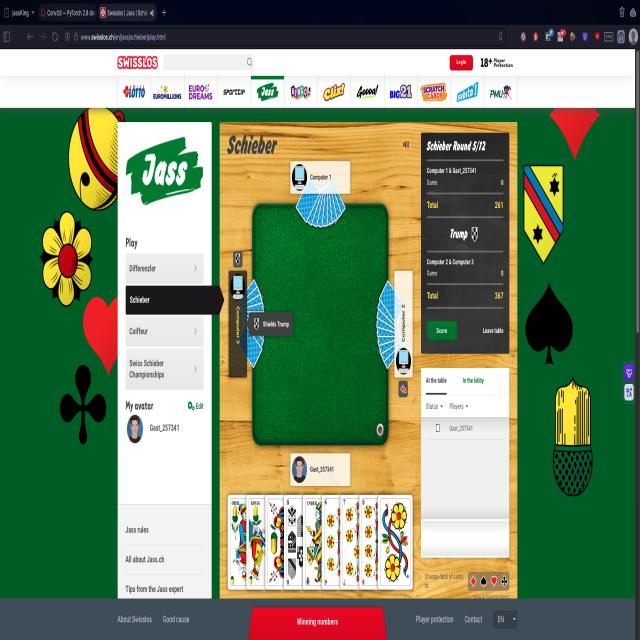eia: (267, 495, 302, 589)
eik: (249, 497, 278, 586)
eio: (228, 496, 266, 588)
ro6: (322, 495, 355, 587)
ro7: (342, 494, 374, 588)
ro8: (360, 491, 392, 586)
roa: (381, 494, 412, 587)
si8: (285, 494, 318, 590)
siu: (302, 496, 336, 592)
